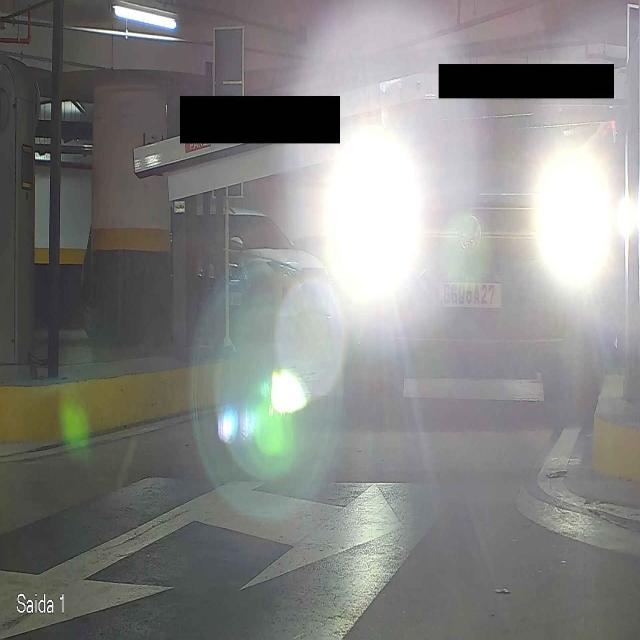mercosul_plate: (437, 272, 504, 310)
